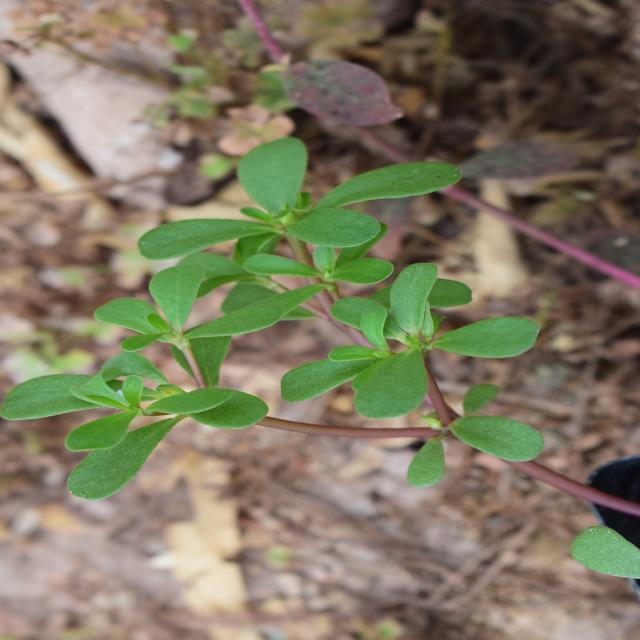purslane: (107, 0, 506, 531)
